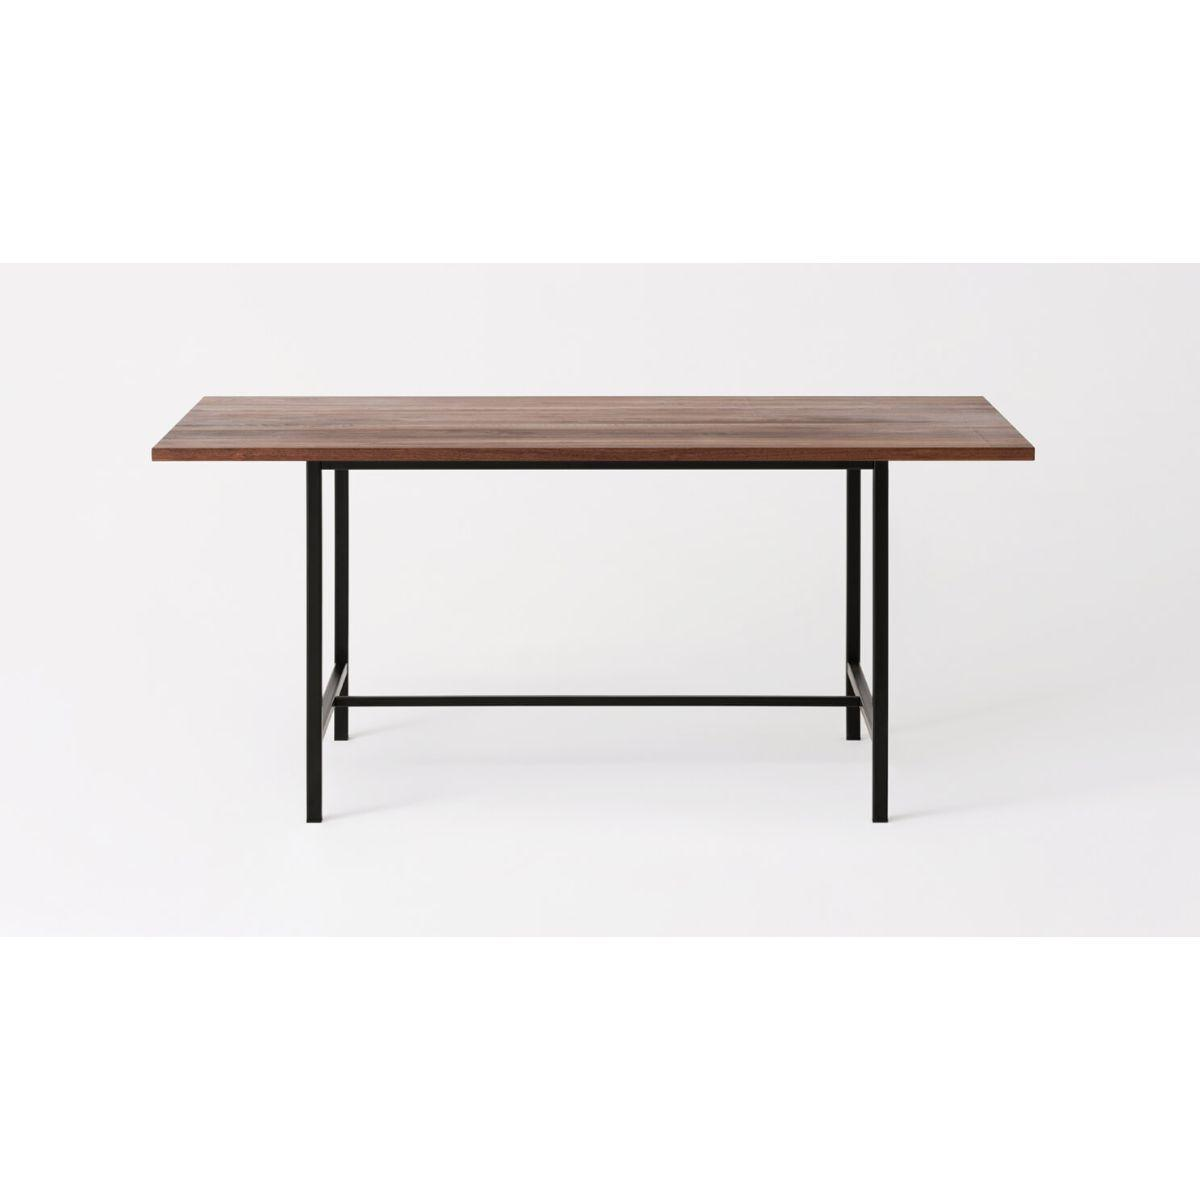Table: (131, 357, 1102, 873)
